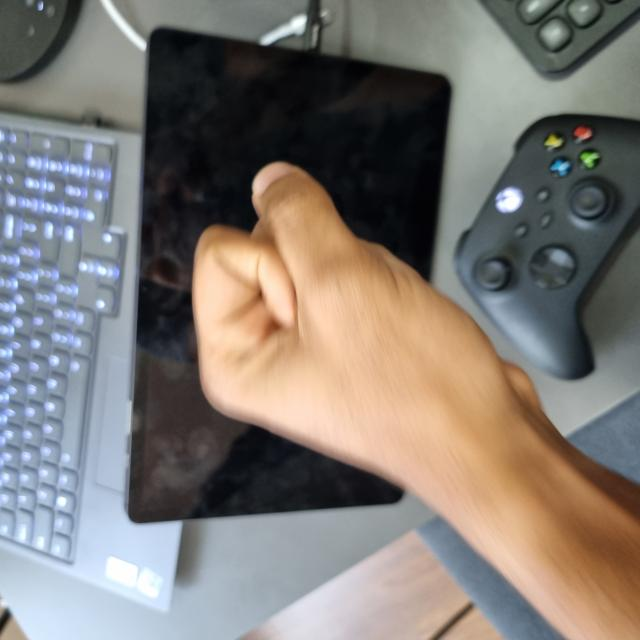Rock: (0, 193, 473, 569)
